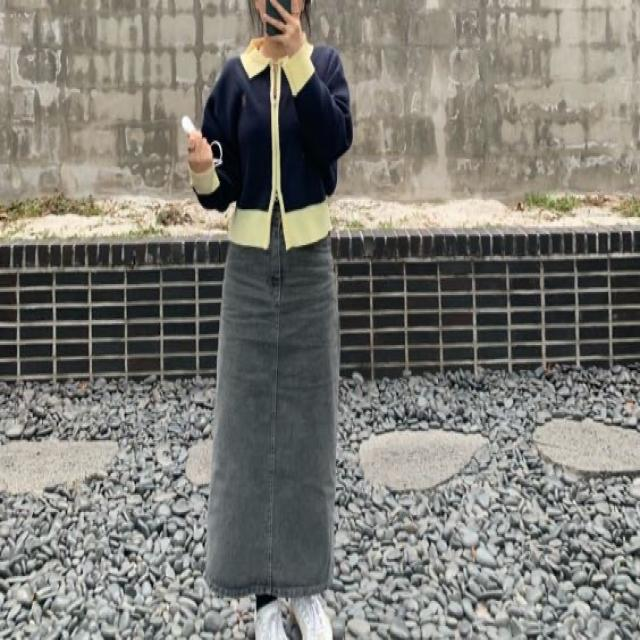cardigan: (188, 30, 354, 248)
skirt: (204, 202, 338, 600)
